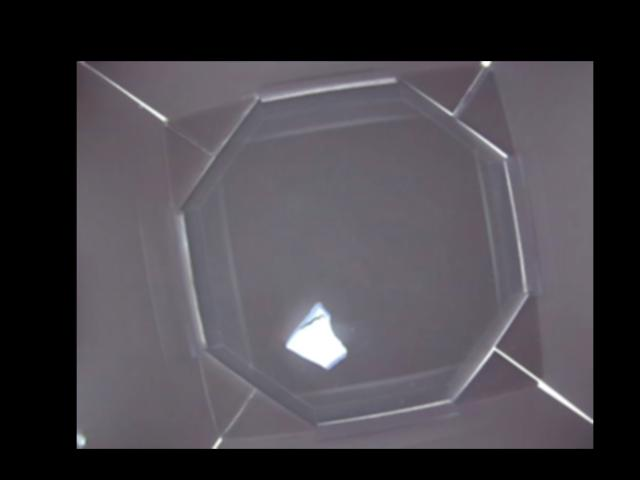China: (284, 301, 349, 372)
